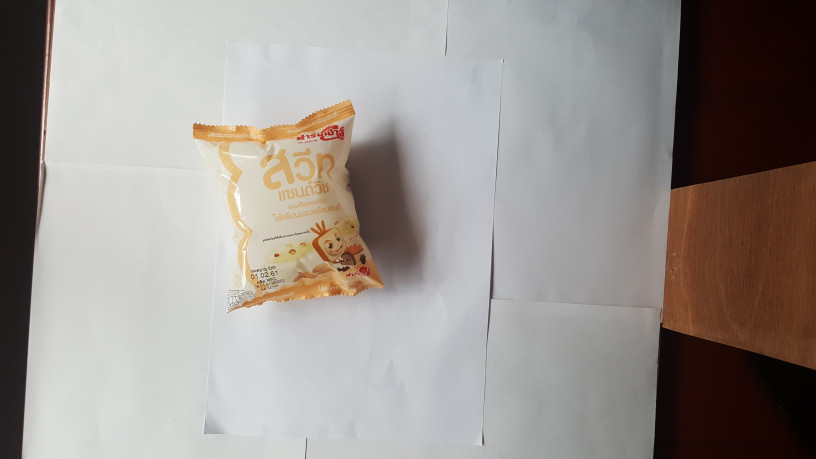farmhouse-sweetsandwich-almond: (180, 97, 393, 321)
